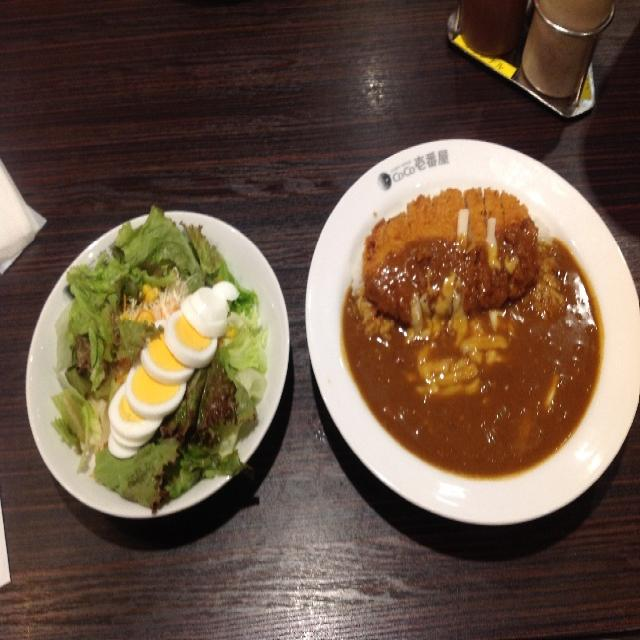猪肉菜式: (298, 134, 638, 526)
蔬菜料理: (18, 203, 289, 529)
